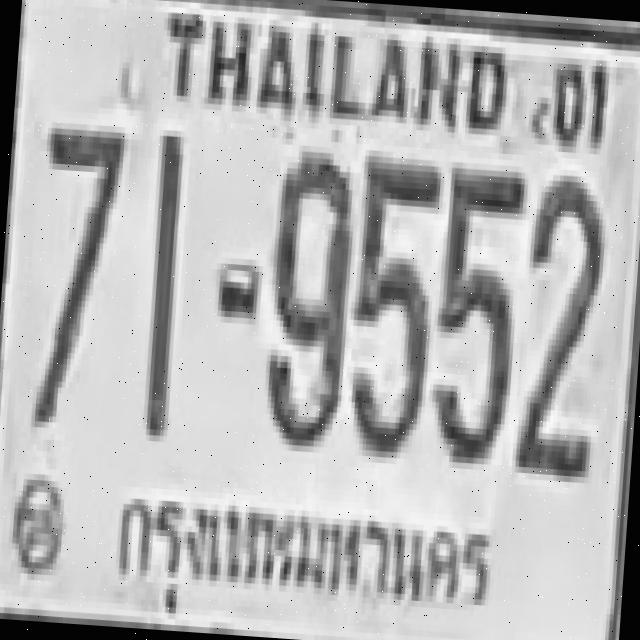1: (138, 132, 184, 432)
2: (512, 170, 606, 474)
5: (342, 150, 440, 453), (428, 162, 522, 460)
7: (25, 121, 123, 425)
9: (260, 144, 356, 442)
Bangkok: (103, 469, 503, 640)
